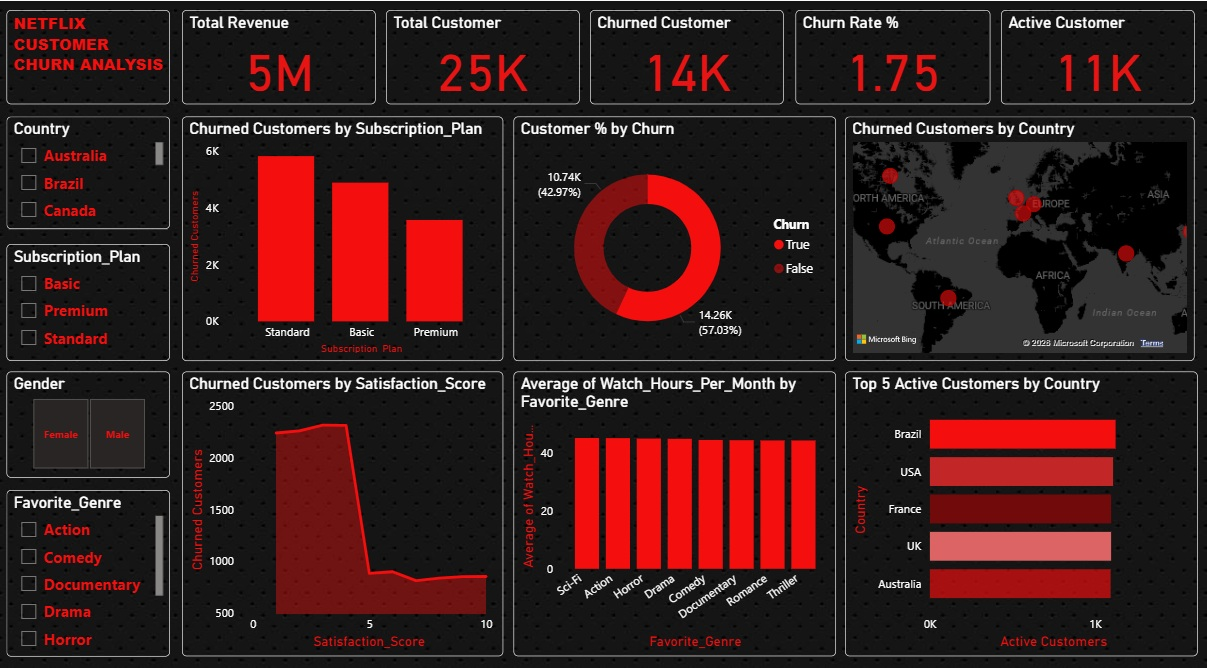

This screenshot's page, from the dashboard's own definition file:
{"tool":"powerbi","page":{"name":"Page 1","canvas":[1280,720],"ordinal":0},"visuals":[{"type":"card","title":"Total Customer","fields":{"Values":["Netflix.Total_Customers"]},"box":[410.4,9.5,205.2,100.2],"z":0},{"type":"card","title":"Churned Customer","fields":{"Values":["Netflix.Churned Customers"]},"box":[626.7,9.5,205.2,100.2],"z":1000},{"type":"card","title":"Churn Rate %","fields":{"Values":["Netflix.Churn Rate %"]},"box":[844.6,9.5,206.8,100.2],"z":2000},{"type":"card","title":"Active Customer","fields":{"Values":["Netflix.Active Customers"]},"box":[1062.5,9.5,205.2,100.2],"z":3000},{"type":"card","title":"Total Revenue","fields":{"Values":["Netflix.Total Revenue"]},"box":[194.1,9.5,205.2,100.2],"z":4000},{"type":"donutChart","title":"Customer %  by Churn","fields":{"Category":["Netflix.Churn"],"Y":["CountNonNull(Netflix.Customer_ID)"]},"box":[545.6,122.5,342,259.3],"z":5000},{"type":"clusteredColumnChart","fields":{"Category":["Netflix.Subscription_Plan"],"Y":["Netflix.Churned Customers"]},"box":[194.1,122.5,340.4,259.3],"z":6000},{"type":"map","fields":{"Category":["Netflix.Country"],"Size":["Netflix.Churned Customers"]},"box":[897.1,122.5,370.6,259.3],"z":7000},{"type":"barChart","title":"Top 5 Active Customers by Country","fields":{"Category":["Netflix.Country"],"Y":["Netflix.Active Customers"]},"box":[897.1,392.9,373.8,302.2],"z":8000},{"type":"stackedAreaChart","fields":{"Category":["Netflix.Satisfaction_Score"],"Y":["Netflix.Churned Customers"]},"box":[194.1,392.9,340.4,302.2],"z":9000},{"type":"columnChart","fields":{"Category":["Netflix.Favorite_Genre"],"Y":["Avg(Netflix.Watch_Hours_Per_Month)"]},"box":[545.6,392.9,342,302.2],"z":10000},{"type":"slicer","title":"Country","fields":{"Values":["Netflix.Country"]},"box":[8,122.5,173.4,119.3],"z":11000},{"type":"slicer","title":"Subscription_Plan","fields":{"Values":["Netflix.Subscription_Plan"]},"box":[8,257.7,173.4,124.1],"z":12000},{"type":"slicer","title":"Gender","fields":{"Values":["Netflix.Gender"]},"box":[8,392.9,173.4,112.9],"z":13000},{"type":"slicer","title":"Favorite_Genre","fields":{"Values":["Netflix.Favorite_Genre"]},"box":[8,518.5,173.4,176.6],"z":14000},{"type":"textbox","title":"NETFLIX CUSTOMER CHURN ANALYSIS","box":[8,9.5,173.4,100.2],"z":15000}]}

Visuals, with their boxes in screenshot pixels (x1, y1, x2, y2), scaled from the page's 1280x720 canvas onto the 1207x668 screenshot:
"Total Customer" card: bbox=[387, 9, 580, 102]
"Churned Customer" card: bbox=[591, 9, 784, 102]
"Churn Rate %" card: bbox=[796, 9, 991, 102]
"Active Customer" card: bbox=[1002, 9, 1195, 102]
"Total Revenue" card: bbox=[183, 9, 377, 102]
"Customer %  by Churn" donutChart: bbox=[514, 114, 837, 354]
clusteredColumnChart - Netflix.Subscription_Plan x Netflix.Churned Customers: bbox=[183, 114, 504, 354]
map - Netflix.Country x Netflix.Churned Customers: bbox=[846, 114, 1195, 354]
"Top 5 Active Customers by Country" barChart: bbox=[846, 365, 1198, 645]
stackedAreaChart - Netflix.Satisfaction_Score x Netflix.Churned Customers: bbox=[183, 365, 504, 645]
columnChart - Netflix.Favorite_Genre x Avg(Netflix.Watch_Hours_Per_Month): bbox=[514, 365, 837, 645]
"Country" slicer: bbox=[8, 114, 171, 224]
"Subscription_Plan" slicer: bbox=[8, 239, 171, 354]
"Gender" slicer: bbox=[8, 365, 171, 469]
"Favorite_Genre" slicer: bbox=[8, 481, 171, 645]
"NETFLIX CUSTOMER CHURN ANALYSIS" textbox: bbox=[8, 9, 171, 102]
